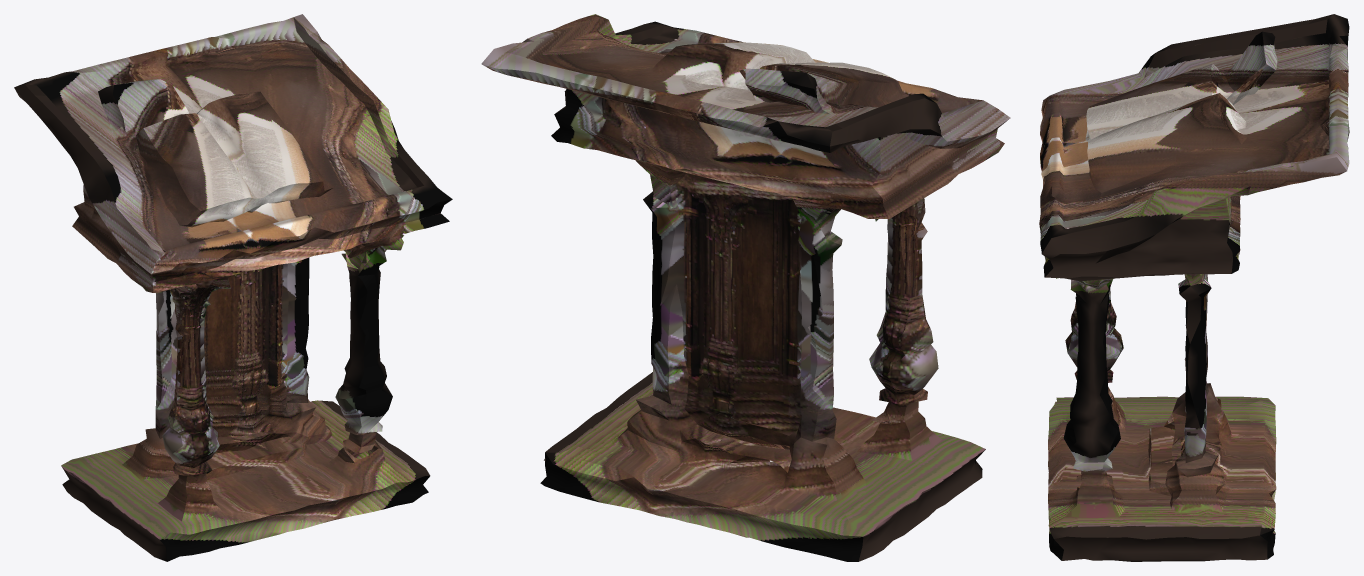
The model's file is lectern.glb.
3 renders of one model, left to right at view 1: azimuth 30°, elevation 25°; view 2: azimuth 150°, elevation 25°; view 3: azimuth 270°, elevation 25°, orthographic. The views are drawn at different scales.
Visible parts, largest first — view 1: geometry_0; view 2: geometry_0; view 3: geometry_0.
Boxes of the visible parts, bbox=[...] form: geometry_0: bbox=[14, 14, 452, 561]; geometry_0: bbox=[481, 14, 1010, 561]; geometry_0: bbox=[1039, 14, 1349, 561].
Bounding box in the file's own units: 1.13 × 1.4 × 0.944.
Materials: 1 (1 with a texture image).
